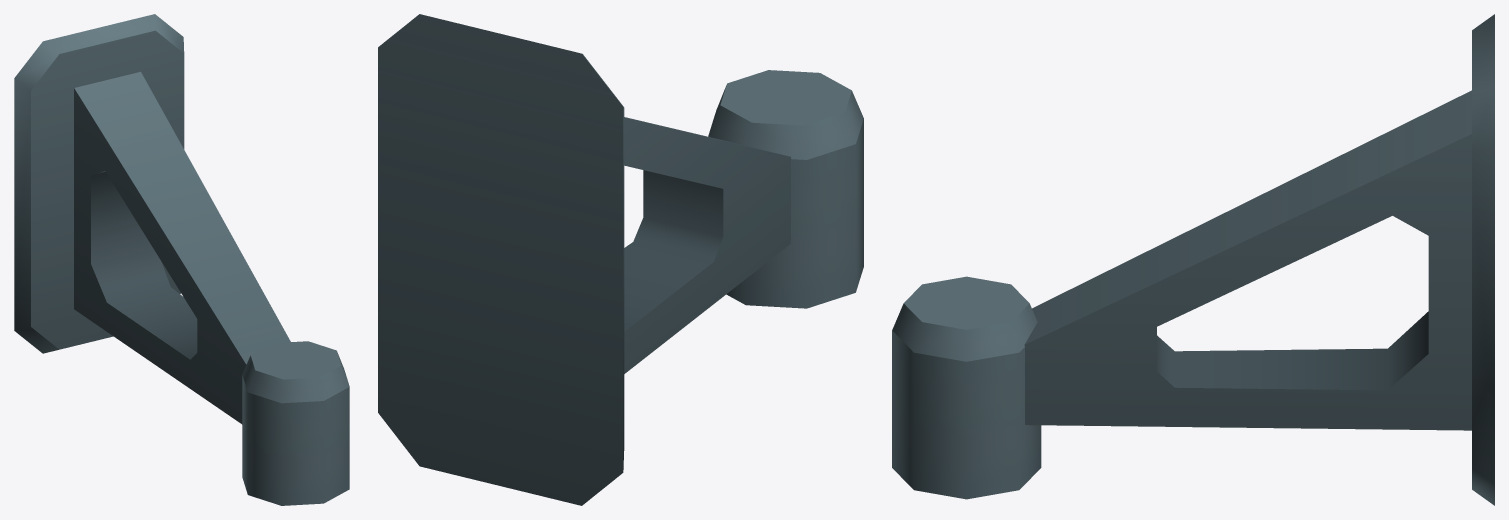
Rendered from Security_cam_011.fbx.
3 views of the same model, side by side, from view 1: azimuth 30°, elevation 25°; view 2: azimuth 150°, elevation 25°; view 3: azimuth 270°, elevation 25° (orthographic). The views are drawn at different scales.
Parts seen in each view (by area): view 1: Security_cam_011; view 2: Security_cam_011; view 3: Security_cam_011.
Boxes of the visible parts, x1,y1,x2,y2 form: Security_cam_011: (14,14,349,505); Security_cam_011: (378,14,863,505); Security_cam_011: (892,14,1494,505).
Bounding box in the file's own units: 15.19 × 34.93 × 26.77.
